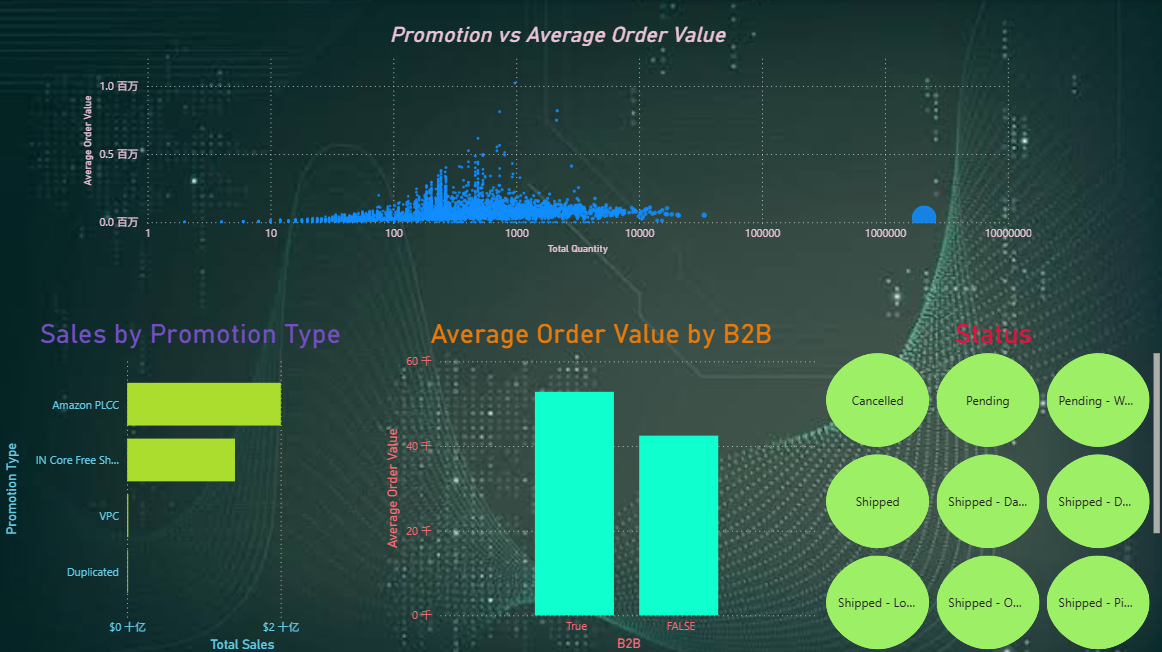

The dashboard page shown, as its layout file describes it:
{"tool":"powerbi","page":{"name":"Promotion & AOV","canvas":[1280,720],"ordinal":3},"visuals":[{"type":"scatterChart","title":"Promotion vs Average Order Value","fields":{"X":["FactSales.Total Quantity"],"Y":["FactSales.Average Order Value"],"Size":["FactSales.Total Sales"],"Category":["DimPromotion.promotion-ids"]},"box":[86.4,23.3,1051.1,260.7],"z":0},{"type":"advancedSlicerVisual","fields":{"Values":["Order.Status"]},"box":[901.5,348.5,378.7,371.9],"z":1000},{"type":"clusteredBarChart","title":"Sales by Promotion Type","fields":{"Y":["FactSales.Total Sales"],"Category":["DimPromotion.Promotion Type"]},"box":[0,348.5,418.5,371.9],"z":2000},{"type":"clusteredColumnChart","title":"Average Order Value by B2B","fields":{"Category":["FactSales.B2B"],"Y":["FactSales.Average Order Value"]},"box":[419,349,483,371],"z":3000}]}

Visuals, with their boxes in screenshot pixels (x1, y1, x2, y2), scaled from the page's 1280x720 canvas onto the 1162x652 screenshot:
"Promotion vs Average Order Value" scatterChart: 78/21/1033/257
advancedSlicerVisual - Order.Status: 818/316/1161/651
"Sales by Promotion Type" clusteredBarChart: 0/316/380/651
"Average Order Value by B2B" clusteredColumnChart: 380/316/819/651
